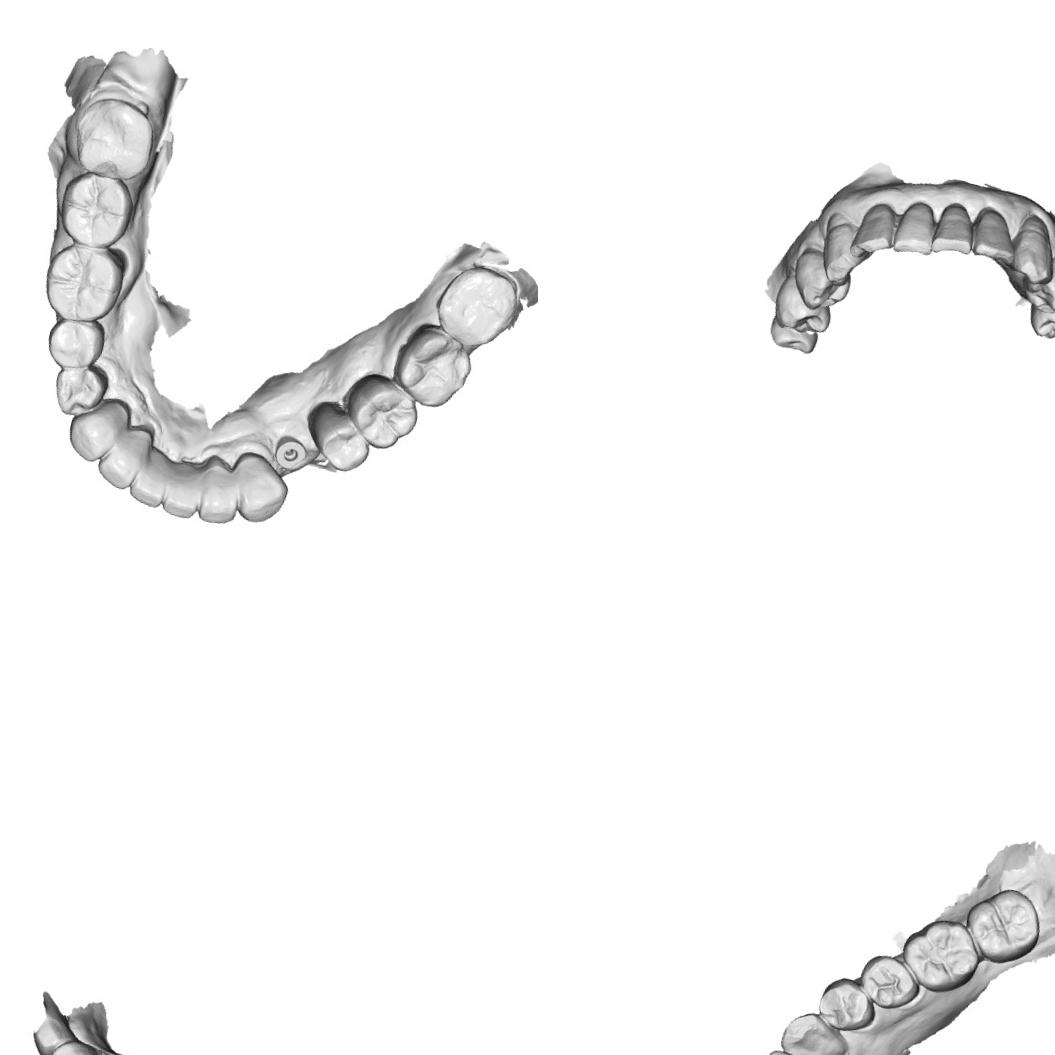canine: (222, 448, 296, 530), (62, 390, 134, 468), (812, 210, 880, 292), (777, 1006, 855, 1055), (1005, 212, 1055, 288)
implant: (270, 433, 310, 473)
incisor: (92, 420, 156, 494), (193, 454, 249, 528), (964, 202, 1025, 266), (888, 196, 943, 260), (849, 196, 902, 260), (928, 198, 981, 262), (126, 444, 174, 510), (159, 458, 208, 521), (26, 1010, 83, 1055), (42, 1034, 106, 1055)
molar: (66, 89, 162, 186), (429, 258, 524, 356), (892, 909, 991, 1003), (36, 235, 130, 331), (388, 317, 480, 414), (957, 878, 1050, 971), (52, 165, 140, 254), (766, 314, 822, 358)
premolar: (334, 366, 426, 456), (296, 394, 380, 476), (786, 244, 858, 318), (811, 970, 883, 1040), (850, 950, 924, 1016), (768, 272, 838, 340), (40, 310, 109, 378), (48, 356, 112, 422), (1015, 245, 1055, 319), (1023, 275, 1055, 346)
